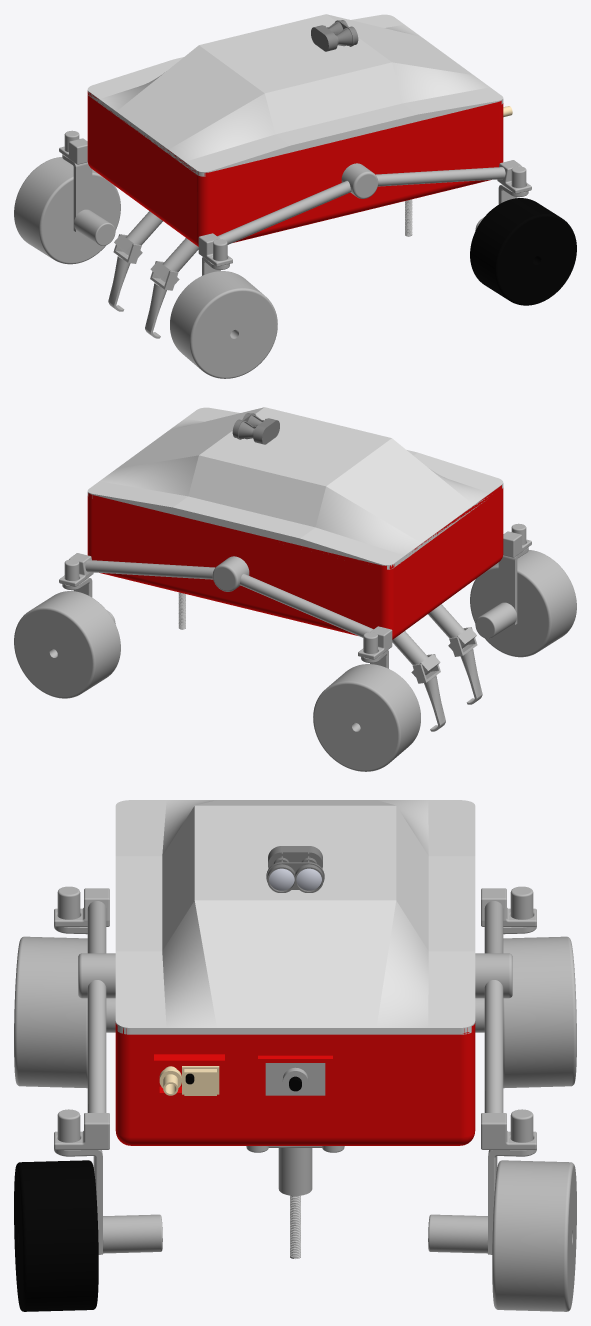
The model's file is full_rover_simple.glb.
3 views of the same model, one above another, from view 1: azimuth 30°, elevation 25°; view 2: azimuth 150°, elevation 25°; view 3: azimuth 270°, elevation 25° (orthographic). The views are drawn at different scales.
Visible parts, largest first — view 1: Rover Cover-1, Rover Chassis-1, MirrorWheel-2, Wheel-1, MirrorMirrorWheel-3, MirrorSwerve Bars-3, SF30B-1, MirrorMirrorPivot Connector-1, MirrorMirrorWheel motor-1, Hook-2, Hook-1, Hook Arm-2 (+3 smaller); view 2: Rover Cover-1, Rover Chassis-1, MirrorMirrorWheel-3, MirrorWheel-4, MirrorWheel-2, Swerve Bars-1, SF30B-1, MirrorPivot Connector-1, MirrorWheel motor-1, Hook-1, Hook-2, Hook Arm-1 (+3 smaller); view 3: Rover Cover-1, Rover Chassis-1, Wheel-1, MirrorWheel-4, MirrorWheel-2, MirrorMirrorWheel-3, Swerve Bars-1, MirrorSwerve Bars-3, SF30B-1, Trident Drill-2, MirrorWheel motor-1, Wheel motor-1 (+10 smaller).
Part boxes in pixels (<box>): Rover Cover-1: <box>87,14,503,176</box>; Rover Chassis-1: <box>87,91,503,246</box>; MirrorWheel-2: <box>170,271,277,378</box>; Wheel-1: <box>470,198,576,305</box>; MirrorMirrorWheel-3: <box>14,157,120,264</box>; MirrorSwerve Bars-3: <box>217,163,505,244</box>; SF30B-1: <box>311,20,358,51</box>; MirrorMirrorPivot Connector-1: <box>62,154,92,231</box>; MirrorMirrorWheel motor-1: <box>74,209,115,245</box>; Hook-2: <box>145,261,178,338</box>; Hook-1: <box>108,234,141,311</box>; Hook Arm-2: <box>150,238,198,284</box>; Rover Cover-1: <box>87,407,503,569</box>; Rover Chassis-1: <box>87,485,503,639</box>; MirrorMirrorWheel-3: <box>313,664,420,771</box>; MirrorWheel-4: <box>14,591,120,698</box>; MirrorWheel-2: <box>470,550,576,657</box>; Swerve Bars-1: <box>85,556,373,637</box>; SF30B-1: <box>232,413,279,444</box>; MirrorPivot Connector-1: <box>498,547,528,624</box>; MirrorWheel motor-1: <box>475,602,516,638</box>; Hook-1: <box>412,654,445,731</box>; Hook-2: <box>449,627,482,704</box>; Hook Arm-1: <box>392,631,440,677</box>; Rover Cover-1: <box>115,800,475,1034</box>; Rover Chassis-1: <box>115,1023,475,1145</box>; Wheel-1: <box>14,1160,98,1311</box>; MirrorWheel-4: <box>492,1160,576,1311</box>; MirrorWheel-2: <box>14,936,87,1088</box>; MirrorMirrorWheel-3: <box>503,936,576,1088</box>; Swerve Bars-1: <box>475,901,512,1112</box>; MirrorSwerve Bars-3: <box>78,901,115,1112</box>; SF30B-1: <box>266,846,324,892</box>; Trident Drill-2: <box>278,1148,312,1258</box>; MirrorWheel motor-1: <box>428,1214,487,1253</box>; Wheel motor-1: <box>103,1214,162,1253</box>.
Size of the model in its own units: 2.32 by 1.42 by 1.91.
